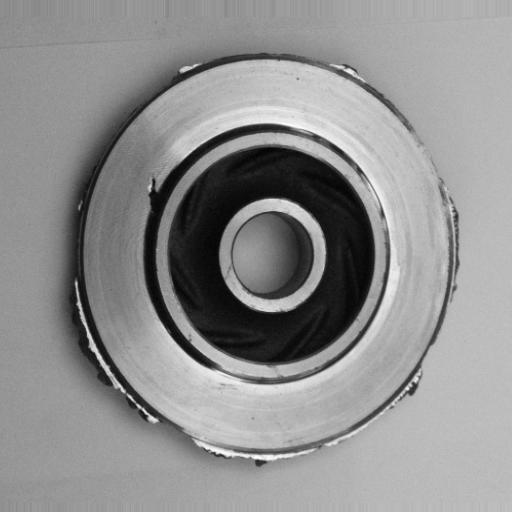casting_with_burr: (64, 53, 463, 468)
crack: (139, 168, 165, 221)
scratch: (359, 166, 405, 250)
